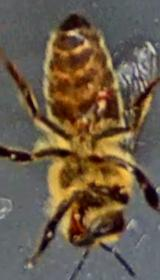varroa_mite: (88, 82, 118, 107)
